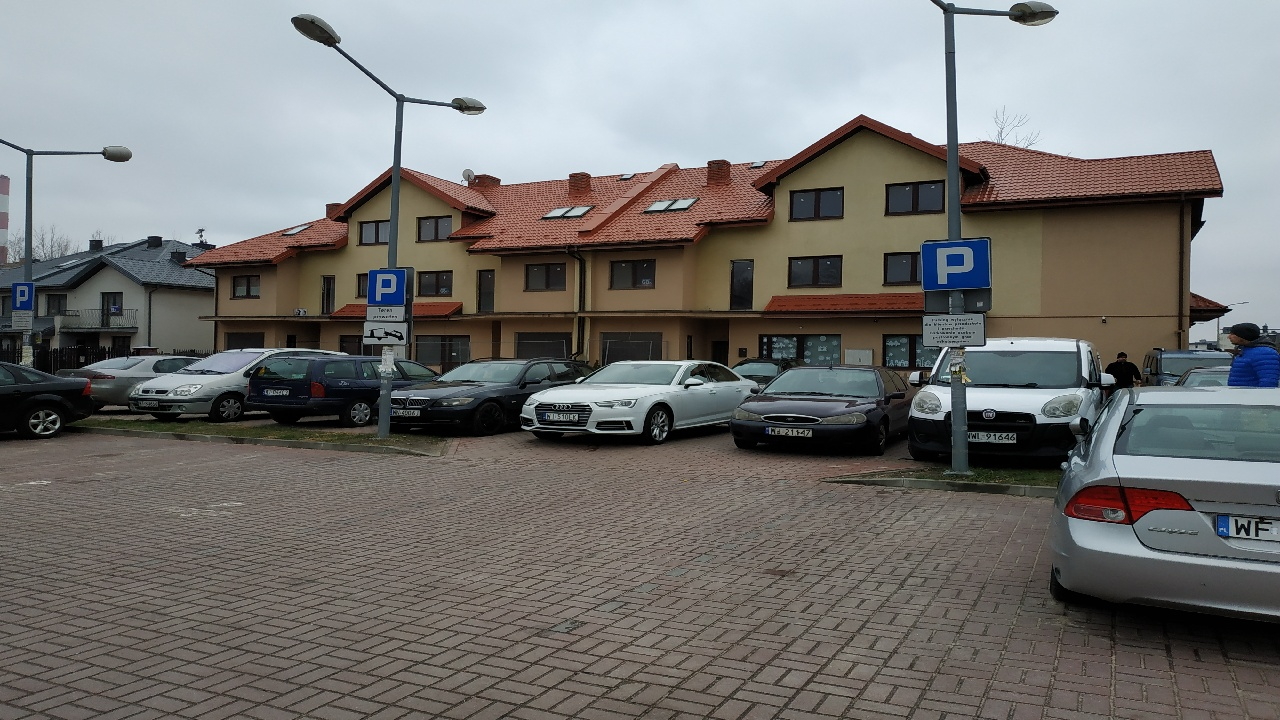D18: (911, 233, 1011, 296), (363, 263, 413, 307), (7, 281, 40, 313)
